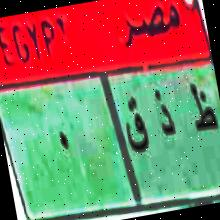0: (51, 115, 77, 164)
Thaa: (179, 71, 220, 145)
qaaf: (120, 88, 152, 160)
zaal: (145, 77, 179, 150)
